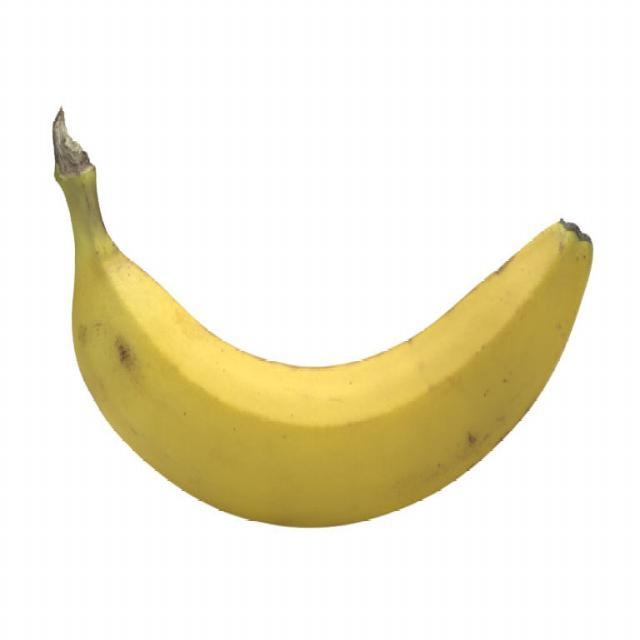Banana: (44, 114, 597, 526)
